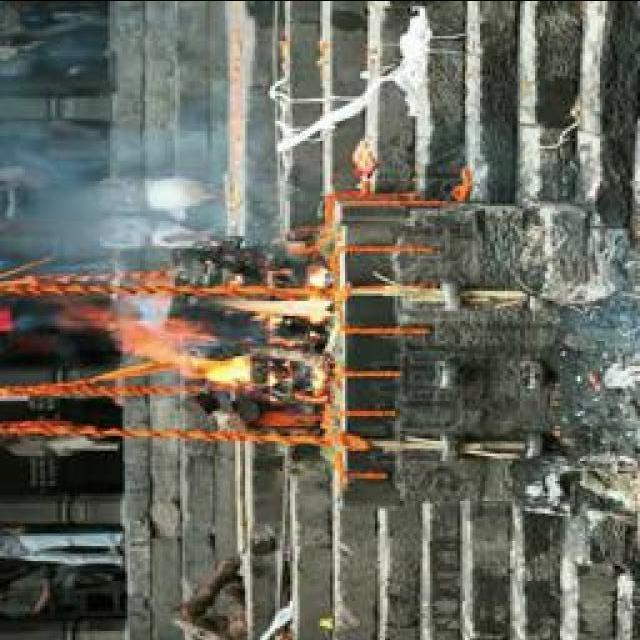Fire: (81, 282, 332, 388)
